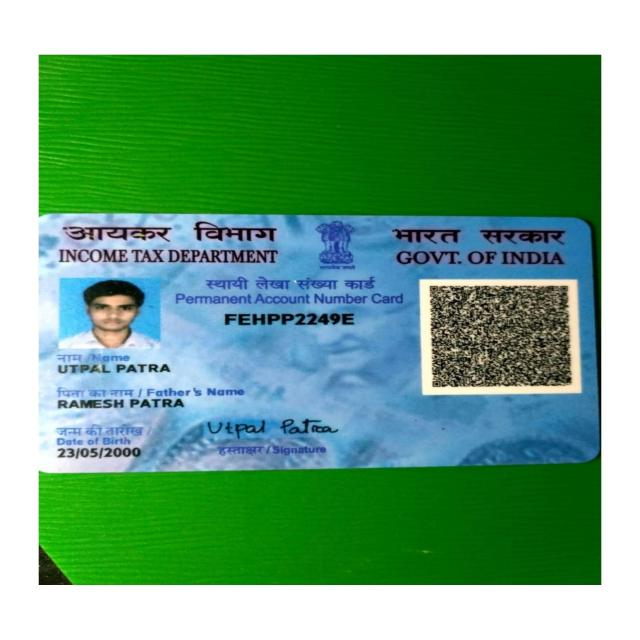pan_card: (45, 219, 598, 472)
